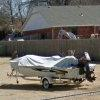Boat: (5, 46, 92, 89)
